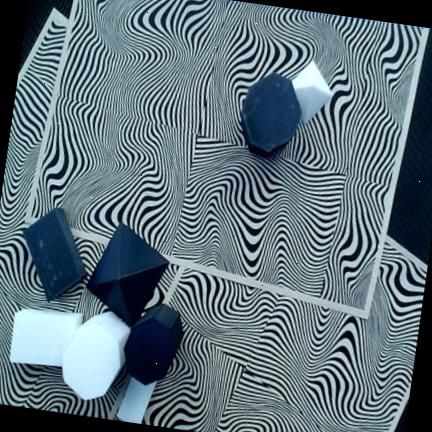Paralelepipedo: (23, 208, 86, 301), (10, 309, 82, 366), (116, 376, 157, 423)
Piramide: (86, 222, 169, 327), (291, 59, 332, 123)
Prisma_hexagonal: (61, 310, 131, 400), (241, 73, 302, 158), (123, 305, 183, 385)
